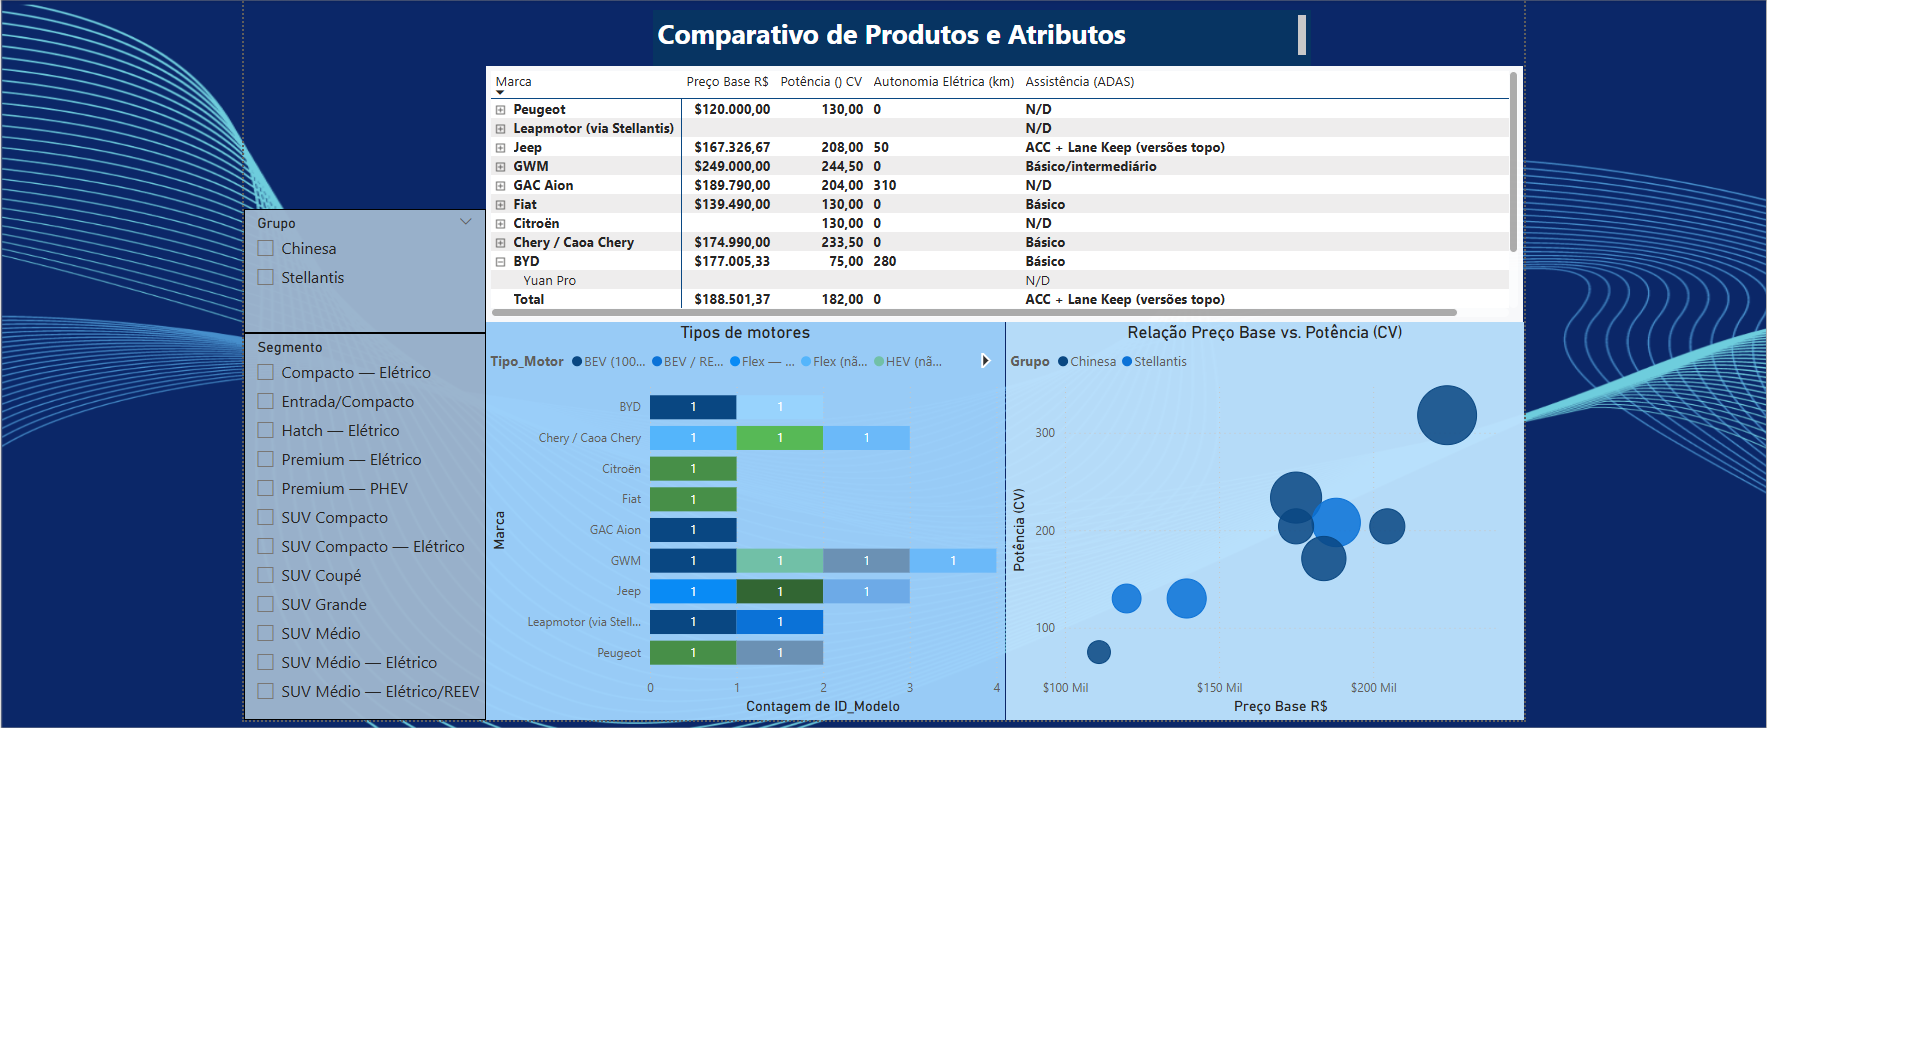

The dashboard page shown, as its layout file describes it:
{"tool":"powerbi","page":{"name":"Panorama de Produtos","canvas":[1280,720],"ordinal":2},"visuals":[{"type":"textbox","box":[408.5,9.7,658.5,56.4],"z":0},{"type":"slicer","fields":{"Values":["Tabela_Modelos.Segmento"]},"box":[0,332.6,242.2,387.1],"z":1000},{"type":"slicer","fields":{"Values":["Dim_Marca.Grupo"]},"box":[0,209.1,242.2,123.5],"z":2000},{"type":"pivotTable","fields":{"Rows":["Tabela_Modelos.Marca","Tabela_Modelos.Modelo"],"Values":["Avg(Tabela_Modelos.Preço_Base_R$)","Avg(Tabela_Modelos.Potência_CV)","Min(Tabela_Modelos.Autonomia_Elétrica_KM)","Min(Tabela_Modelos.Nível_ADAS)"]},"box":[242.2,66.1,1037.8,255.8],"z":3000},{"type":"scatterChart","title":"Relação Preço Base vs. Potência (CV)","fields":{"Category":["Tabela_Modelos.Modelo"],"X":["Avg(Tabela_Modelos.Preço_Base_R$)"],"Y":["Avg(Tabela_Modelos.Potência_CV)"],"Series":["Dim_Marca.Grupo"],"Size":["Sum(Tabela_Modelos.Potência_CV)1"]},"box":[761.6,321.9,518.4,397.8],"z":4000},{"type":"barChart","title":"Tipos de motores ","fields":{"Y":["CountNonNull(Dim_Marca.ID_Modelo)"],"Series":["Tabela_Modelos.Tipo_Motor"],"Category":["Dim_Marca.Modelo"]},"box":[242.2,321.9,519.4,397.8],"z":5000}]}

Visuals, with their boxes on the page's 1280x720 design canvas (x1, y1, x2, y2). These are canvas units, not pixel positions in the 1920x1040 screenshot, which may show the page scaled, cropped or inside an application window:
textbox: l=408, t=10, r=1067, b=66
slicer - Tabela_Modelos.Segmento: l=0, t=333, r=242, b=720
slicer - Dim_Marca.Grupo: l=0, t=209, r=242, b=333
pivotTable - Tabela_Modelos.Marca x Tabela_Modelos.Modelo: l=242, t=66, r=1280, b=322
"Relação Preço Base vs. Potência (CV)" scatterChart: l=762, t=322, r=1280, b=720
"Tipos de motores " barChart: l=242, t=322, r=762, b=720
